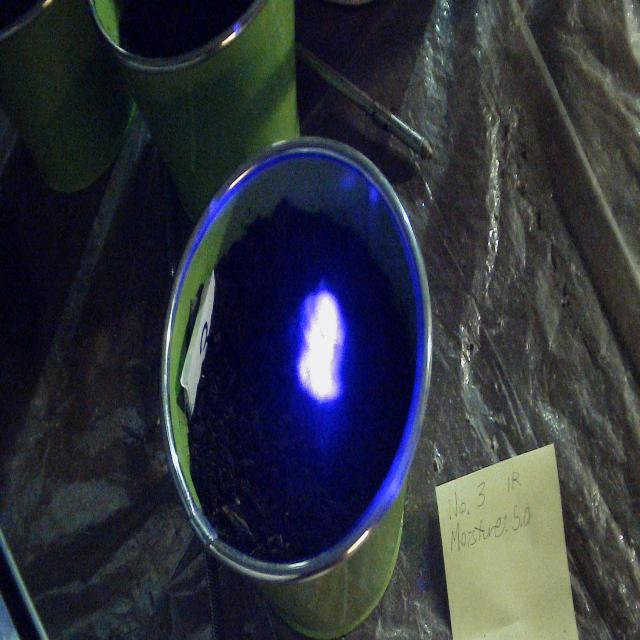soil-moisture-5.0: (295, 288, 345, 401)
